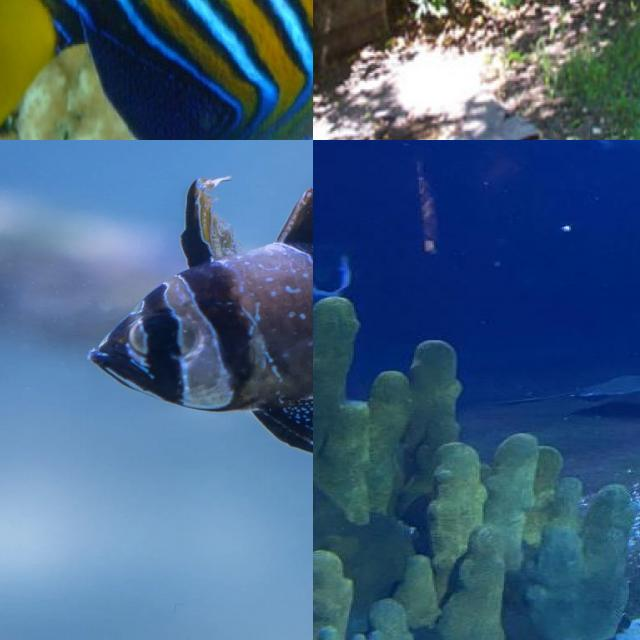fish: (0, 140, 313, 418), (0, 0, 313, 140)
